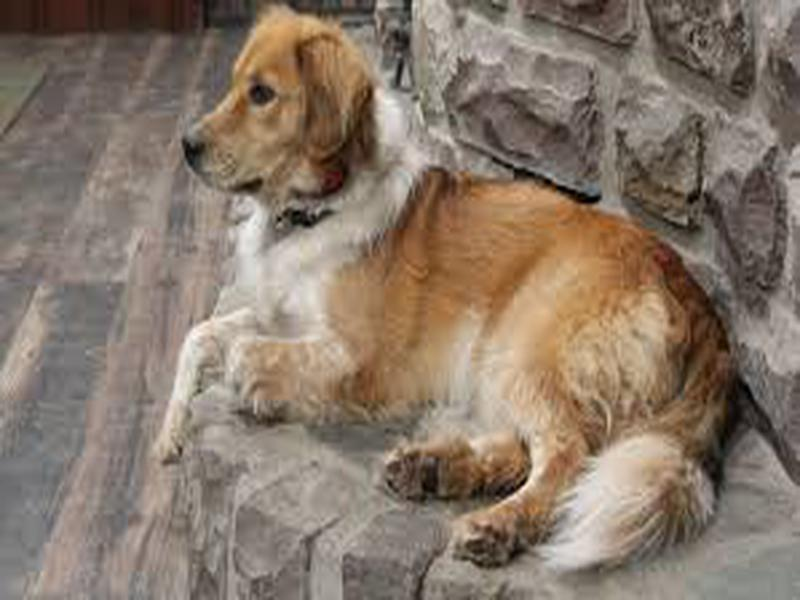dog_down: (153, 8, 738, 575)
